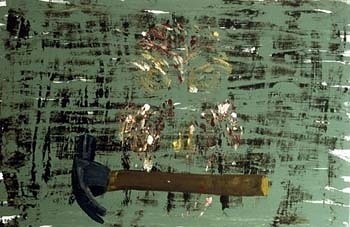hammer: (71, 134, 268, 217)
